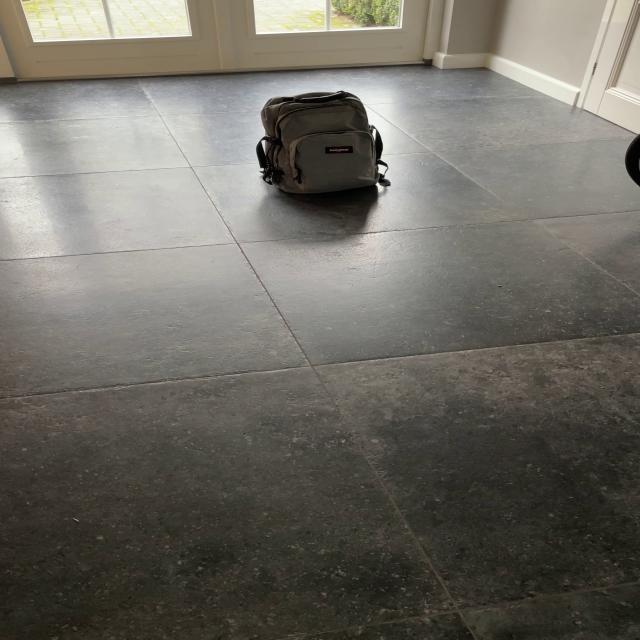backpack: (248, 86, 390, 198)
